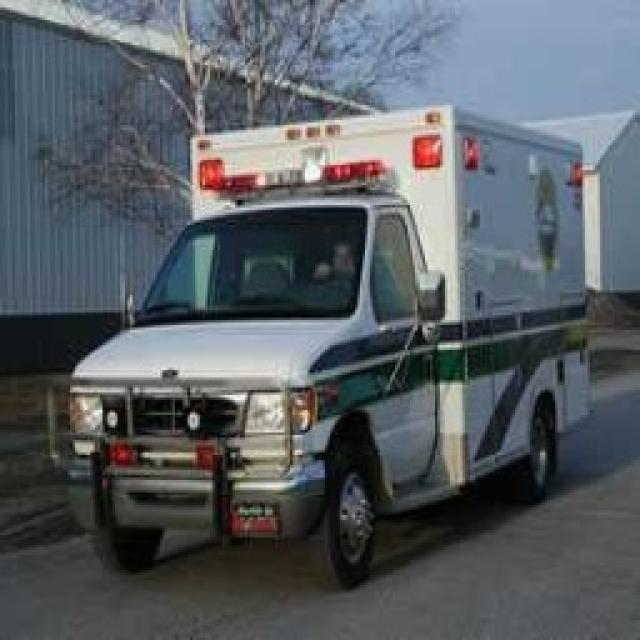emergency-vehicle: (64, 104, 584, 559)
